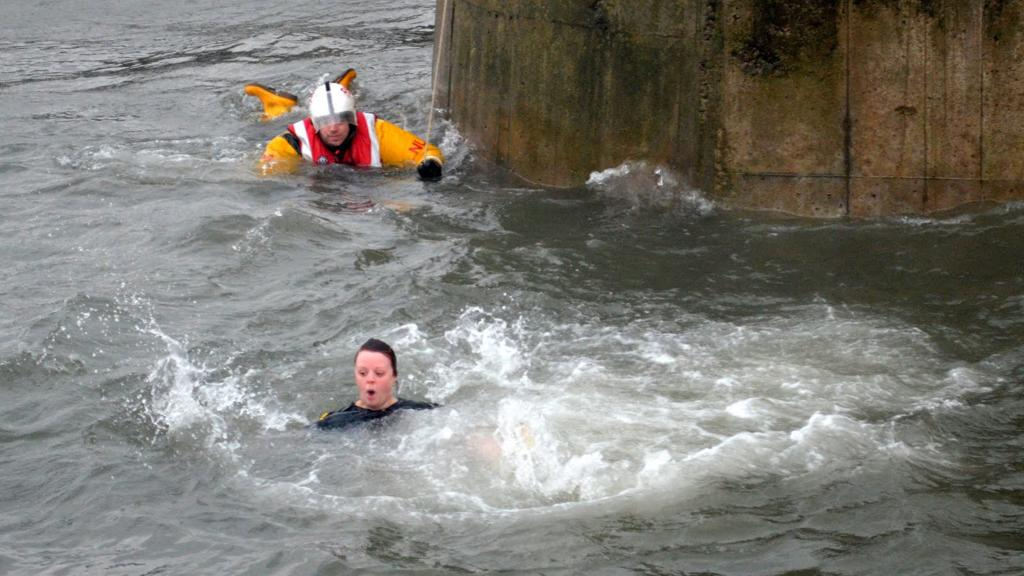face: (354, 350, 394, 405), (318, 110, 349, 146)
